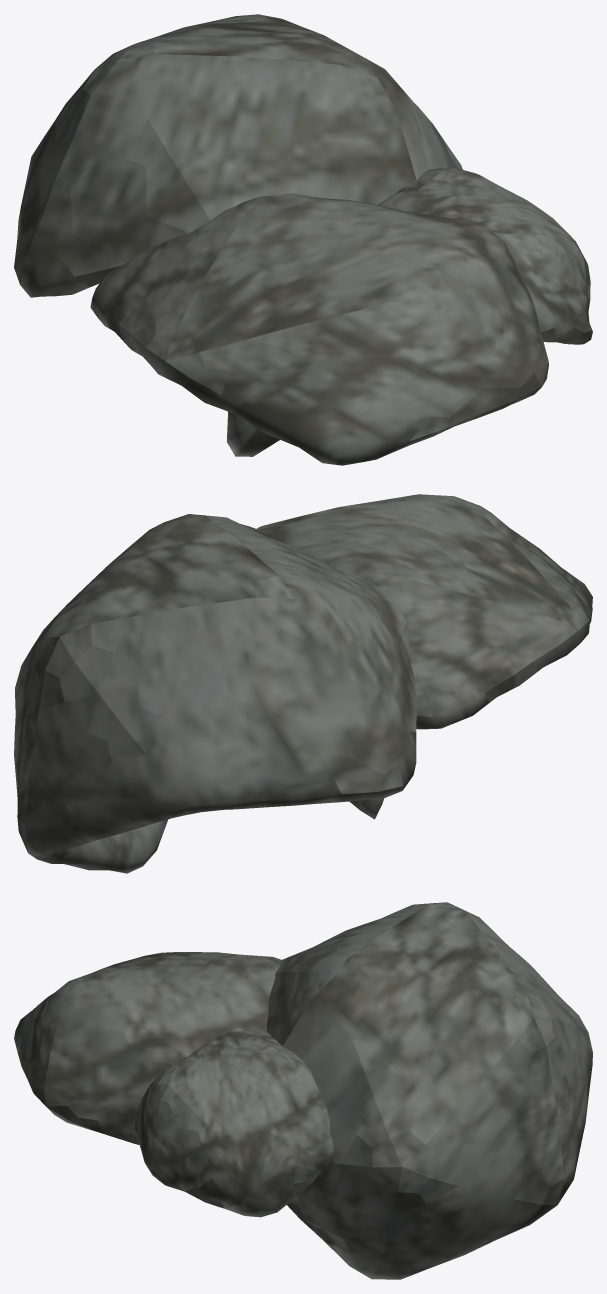
The model's file is rocks.glb.
3 renders of one model, top to bottom at view 1: azimuth 30°, elevation 25°; view 2: azimuth 150°, elevation 25°; view 3: azimuth 270°, elevation 25°, orthographic. The views are drawn at different scales.
Visible parts, largest first — view 1: polySurface274, polySurface387, polySurface275; view 2: polySurface387, polySurface274; view 3: polySurface387, polySurface274, polySurface275.
Part boxes in pixels (x1=…): polySurface274: x1=90, y1=193, x2=548, y2=465; polySurface387: x1=14, y1=14, x2=462, y2=456; polySurface275: x1=378, y1=167, x2=592, y2=344; polySurface387: x1=14, y1=514, x2=416, y2=873; polySurface274: x1=255, y1=494, x2=592, y2=729; polySurface387: x1=266, y1=902, x2=592, y2=1279; polySurface274: x1=14, y1=952, x2=281, y2=1144; polySurface275: x1=134, y1=1030, x2=333, y2=1217.
Bounding box in the file's own units: 4.33 × 3.47 × 6.01.
Materials: 1 (1 with a texture image).
